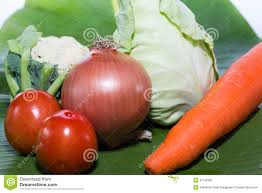onion: (62, 39, 151, 147)
tomato: (35, 109, 99, 175), (4, 89, 60, 151)
